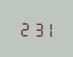one: (41, 20, 51, 37)
three: (30, 19, 40, 37)
two: (18, 19, 28, 36)
